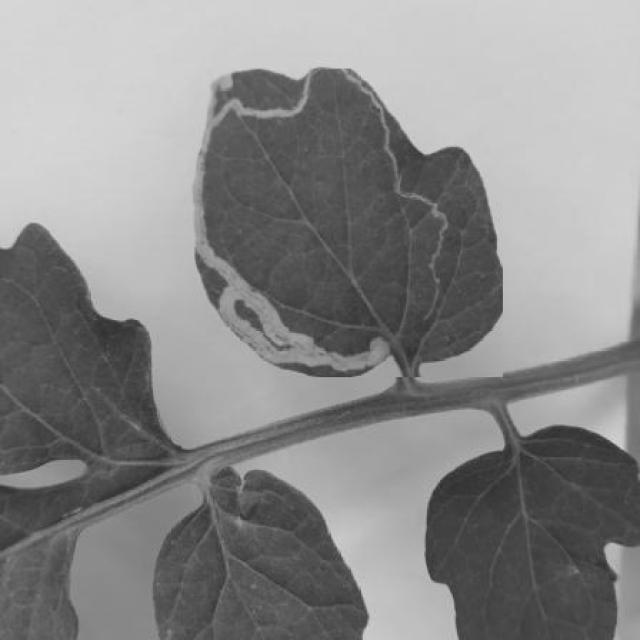Leaf Miner: (188, 69, 503, 378)
